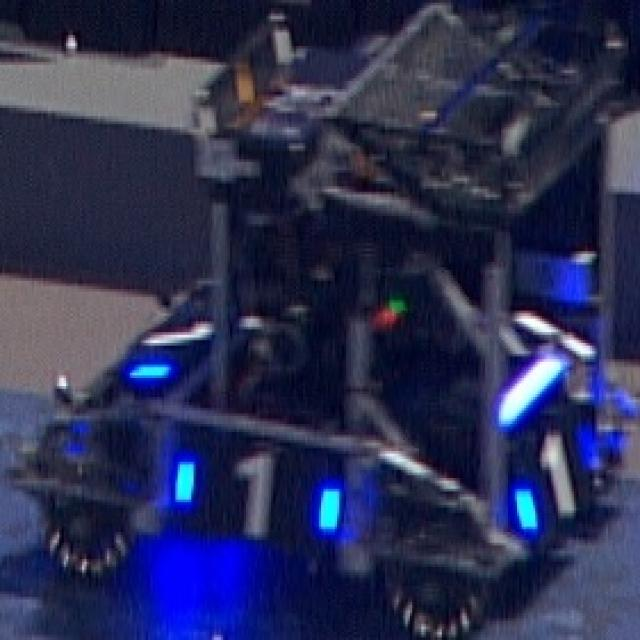B1: (170, 451, 342, 537), (510, 421, 604, 532)
